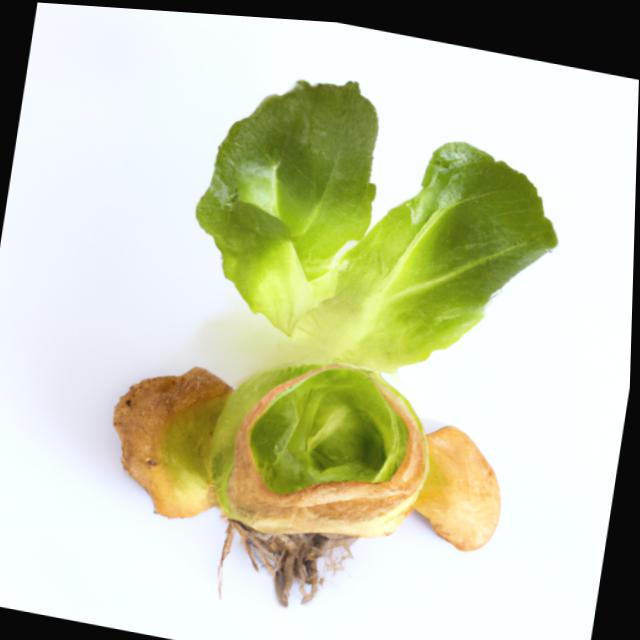-K: (76, 27, 596, 640)
